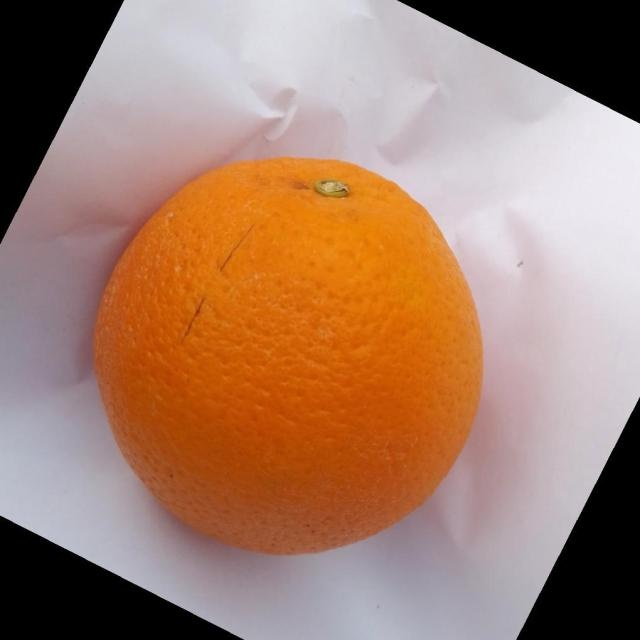agrume: (91, 154, 484, 556)
